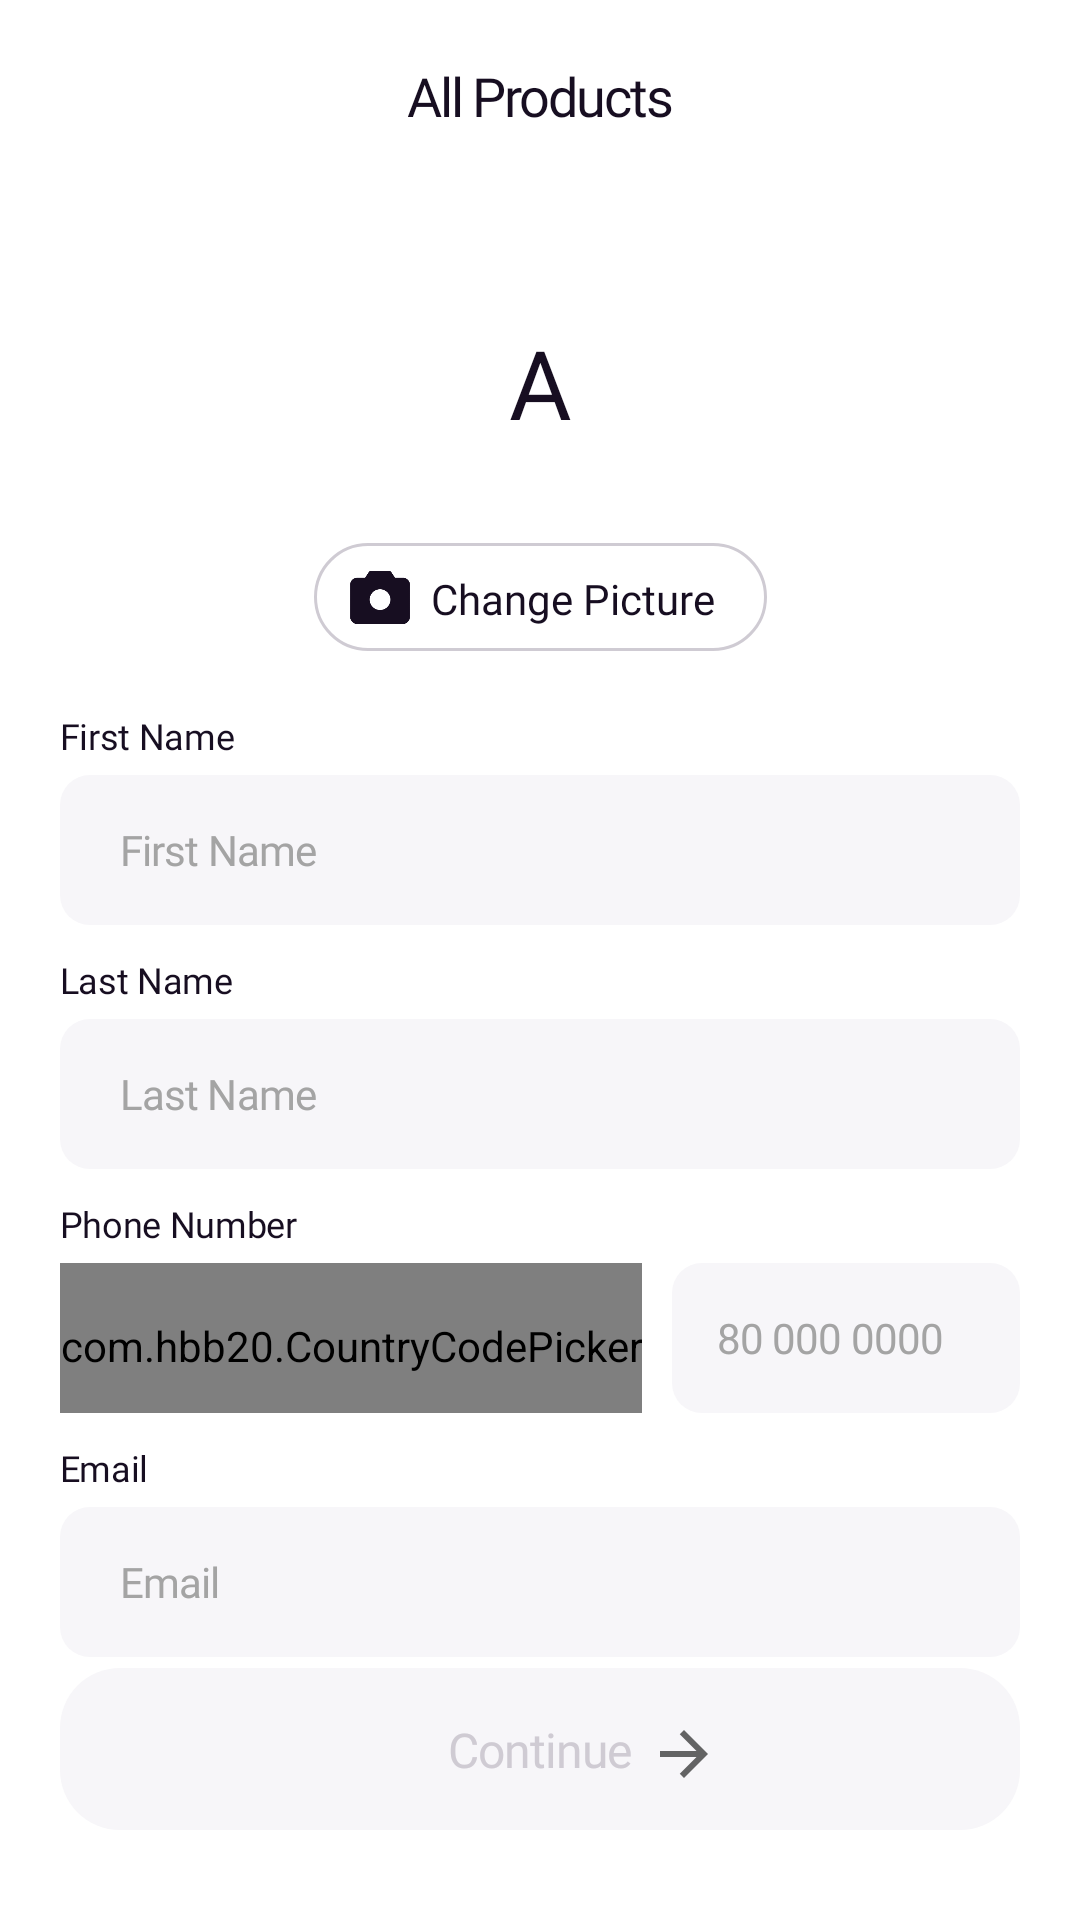

Icons on this 1080 × 1920 Android screen, each with its box as detection(x1, y1, x2, y2):
arrow forward: detection(660, 1730, 708, 1778)
camera: detection(350, 571, 410, 624)
